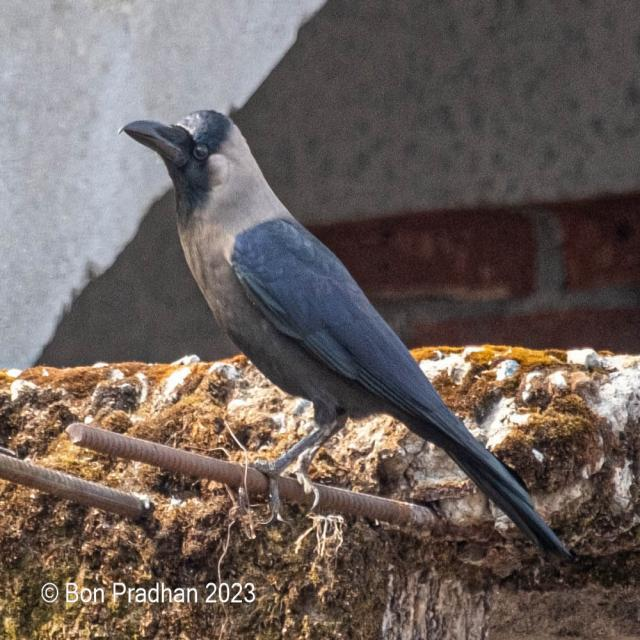bird: (116, 104, 585, 586)
